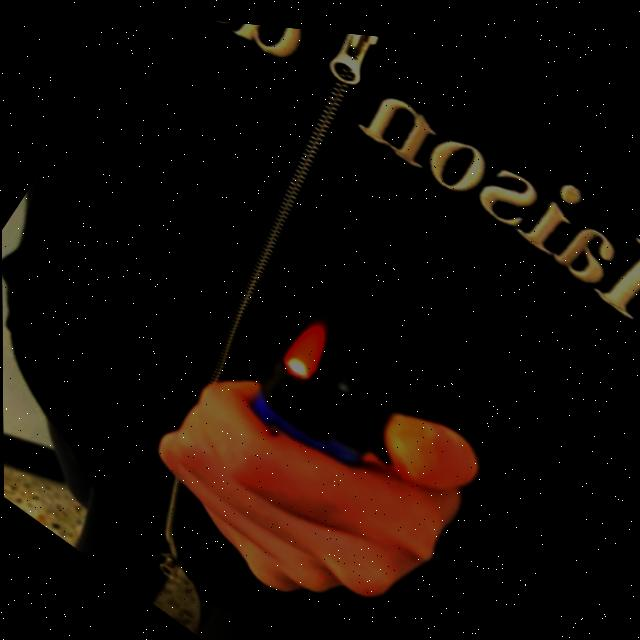Fire: (272, 292, 347, 384)
